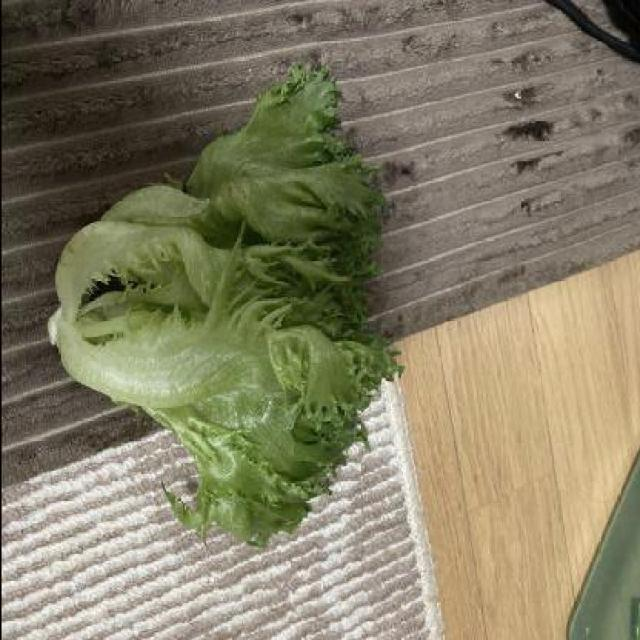Lettuce: (48, 56, 408, 549)
